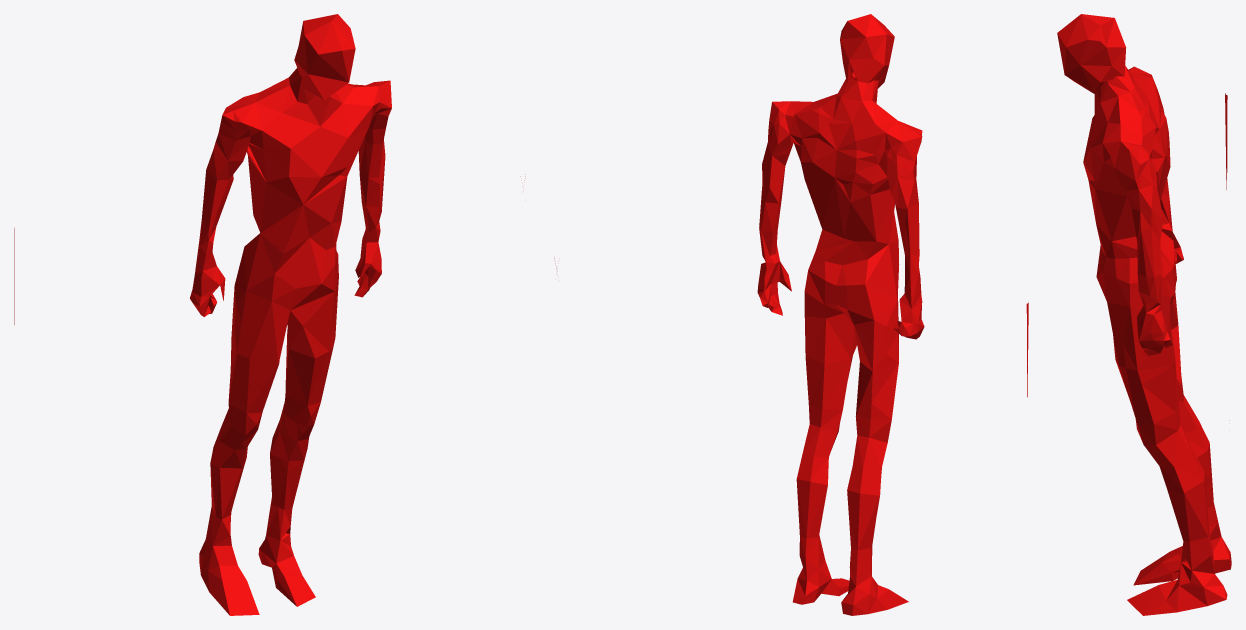
File: superhot_enemy_stl.glb
3 renders of one model, left to right at view 1: azimuth 30°, elevation 25°; view 2: azimuth 150°, elevation 25°; view 3: azimuth 270°, elevation 25°, orthographic. The views are drawn at different scales.
Parts seen in each view (by area): view 1: __0; view 2: __0; view 3: __0.
Part boxes in pixels (bbox=[...]): __0: bbox=[14, 14, 525, 615]; __0: bbox=[554, 14, 1028, 615]; __0: bbox=[1057, 14, 1231, 615].
Size of the model in its own units: 1.61 by 1.8 by 0.4805.
